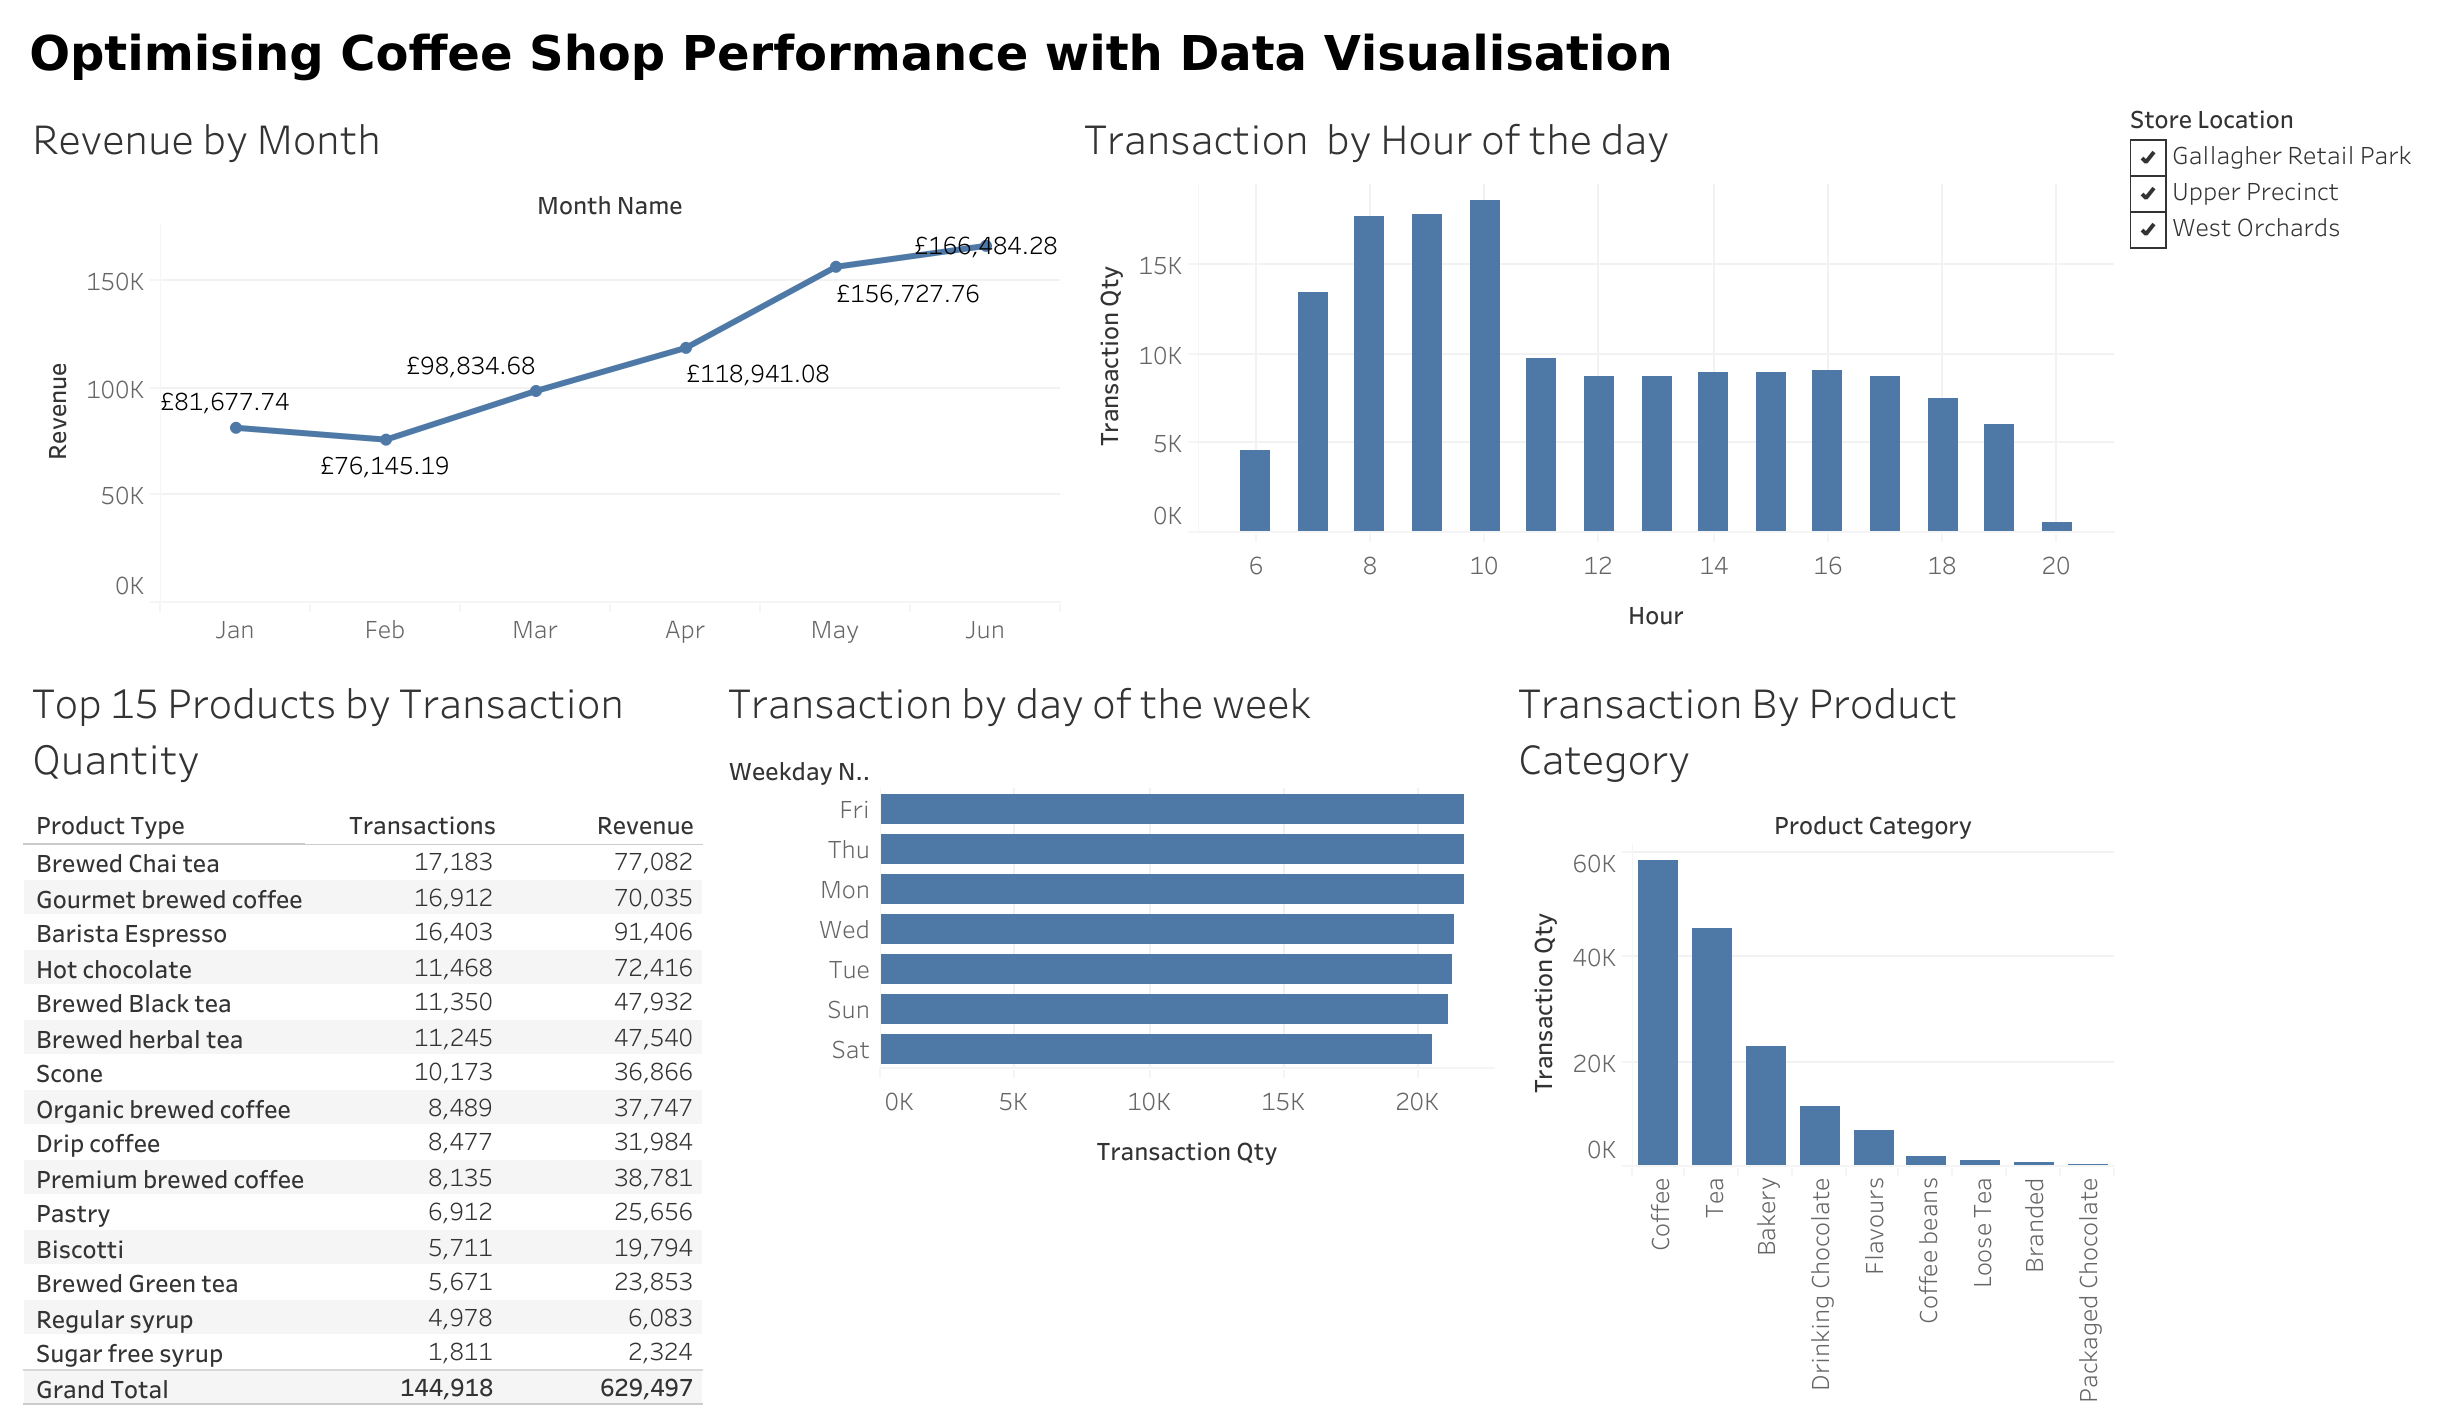

The dashboard page shown, as its layout file describes it:
{"tool":"tableau","page":{"name":"Dashboard 2","canvas":[1229,715],"ordinal":0},"visuals":[{"type":"title","box":[8,8,1213,37]},{"type":"worksheet","title":"Sheet 2","mark":"Line","rows":["Revenue"],"cols":["Month Name"],"box":[8,45,526.5,282.2]},{"type":"worksheet","title":"Sheet 3","mark":"Bar","rows":["transaction_qty"],"cols":["Hour"],"box":[534.5,45,526.5,282.2]},{"type":"filter","title":"Sheet 2","param":"[federated.11pyp101bqf7yb1floluq1s03o75].[none:store_location:nk]","box":[1061,45,160,108]},{"type":"worksheet","title":"Sheet 5","mark":"Automatic","rows":["product_type"],"box":[8,327.2,348,379.8]},{"type":"worksheet","title":"Sheet 1","mark":"Automatic","rows":["Weekday Name"],"cols":["transaction_qty"],"box":[356,327.2,395,379.8]},{"type":"worksheet","title":"Sheet 4","mark":"Automatic","rows":["transaction_qty"],"cols":["product_category"],"box":[751,327.2,310,379.8]}]}

Visuals, with their boxes in screenshot pixels (x1, y1, x2, y2), scaled from the page's 1229x715 canvas onto the 2456x1428 screenshot:
title: x1=16 y1=16 x2=2440 y2=90
"Sheet 2" worksheet (Line marks): x1=16 y1=90 x2=1068 y2=653
"Sheet 3" worksheet (Bar marks): x1=1068 y1=90 x2=2120 y2=653
"Sheet 2" filter: x1=2120 y1=90 x2=2440 y2=306
"Sheet 5" worksheet: x1=16 y1=653 x2=711 y2=1412
"Sheet 1" worksheet: x1=711 y1=653 x2=1501 y2=1412
"Sheet 4" worksheet: x1=1501 y1=653 x2=2120 y2=1412
